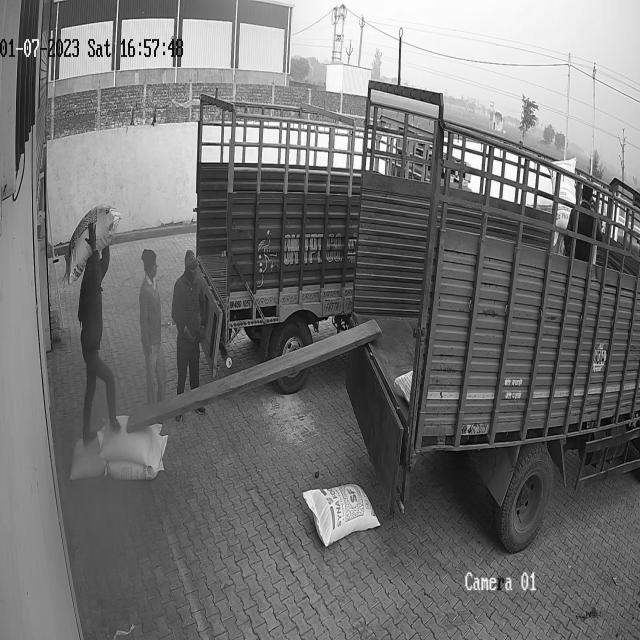sack: (302, 483, 381, 546), (64, 206, 119, 283), (97, 414, 162, 465), (105, 434, 168, 479), (70, 437, 106, 481)
